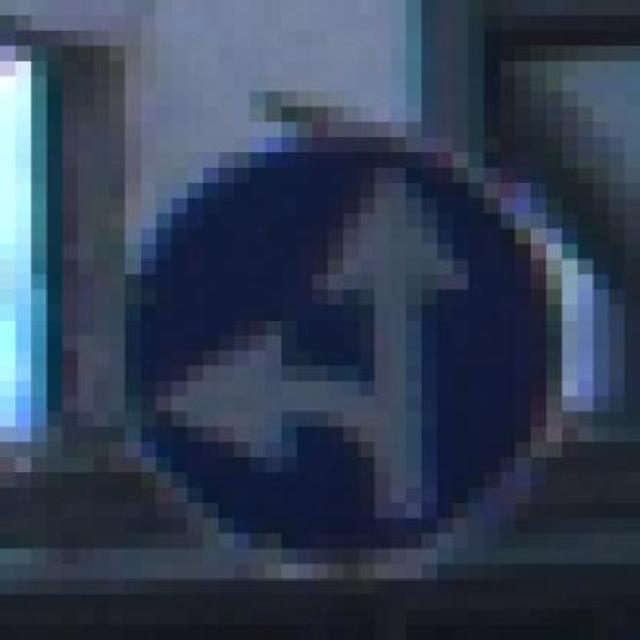Go straight or turn left: (78, 122, 578, 580)
